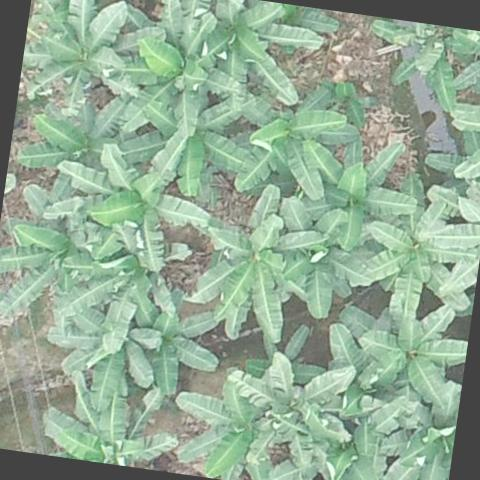Banana-plant: (190, 172, 320, 349), (112, 0, 250, 143), (64, 152, 216, 277), (296, 120, 426, 255), (351, 196, 480, 331), (227, 348, 356, 475), (118, 85, 255, 202), (197, 0, 326, 114), (44, 287, 160, 413), (230, 85, 348, 205), (262, 204, 378, 324), (39, 377, 182, 473), (16, 88, 128, 207), (25, 0, 136, 114), (74, 220, 188, 328), (120, 289, 226, 405), (360, 16, 480, 115), (168, 369, 274, 480), (0, 210, 95, 328), (363, 304, 471, 401), (379, 375, 462, 480)
